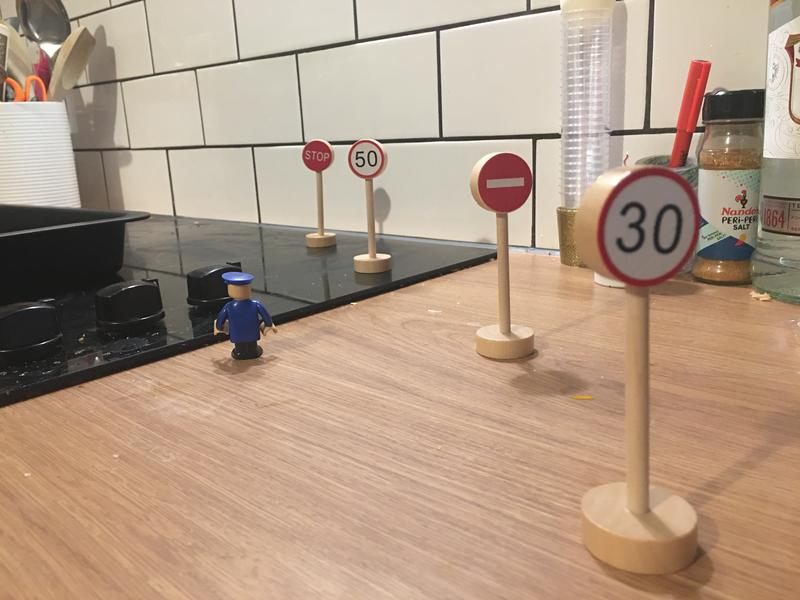Traffic_Sign_30: (594, 172, 703, 284)
Traffic_Sign_50: (348, 140, 387, 177)
Traffic_Sign_No_Entry: (478, 154, 532, 210)
Traffic_Sign_Stop: (303, 139, 332, 172)
person: (210, 267, 284, 365)
